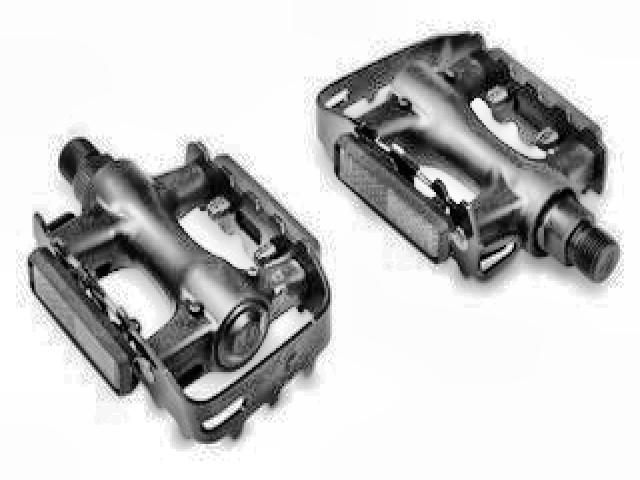pedal: (26, 124, 337, 448), (308, 20, 624, 284)
